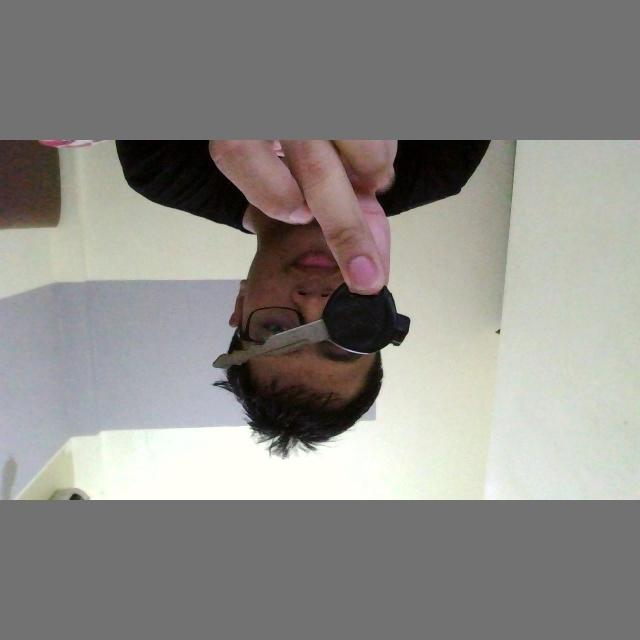Keys: (209, 272, 409, 372)
